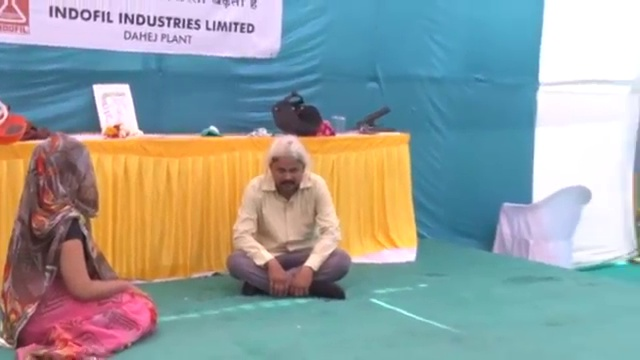helmet_off: (24, 134, 100, 216), (268, 136, 308, 196)
person: (1, 134, 159, 360), (226, 134, 352, 301)
